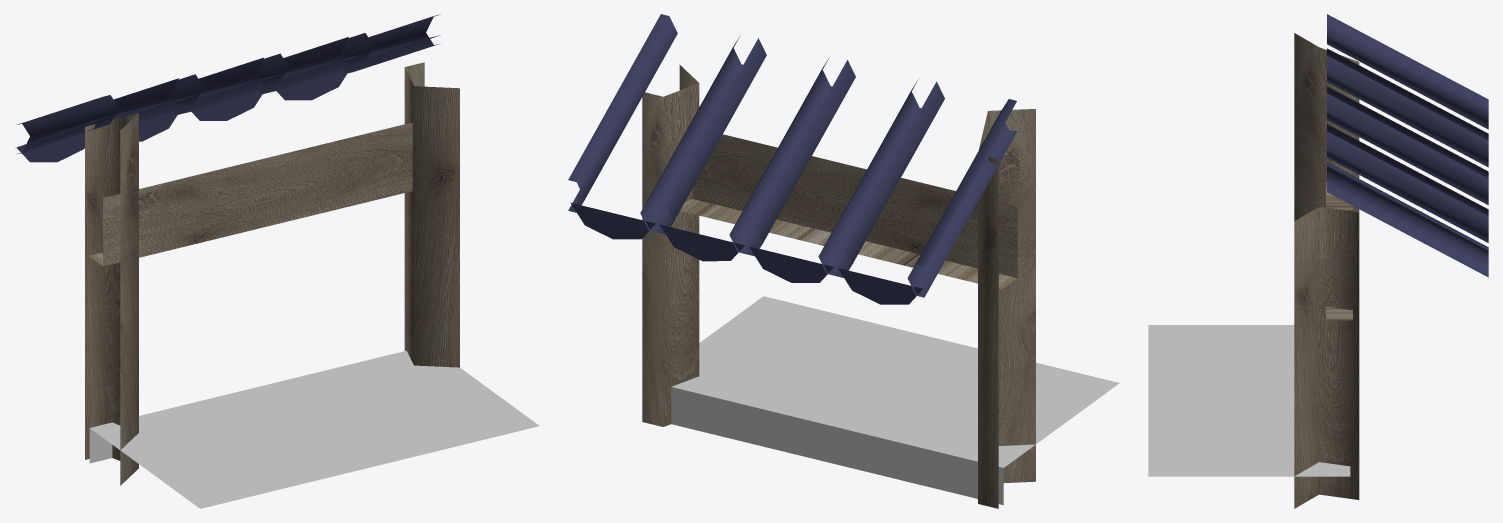
File: Building_CorridorBack_5.fbx
3 renders of one model, left to right at view 1: azimuth 30°, elevation 25°; view 2: azimuth 150°, elevation 25°; view 3: azimuth 270°, elevation 25°, orthographic. The views are drawn at different scales.
Visible parts, largest first — view 1: Cube.009, Plane.018, Cylinder.006, Cylinder.007, Circle.179, Circle.176, Circle.177, Circle.178, Circle.180, Plane.016, Plane.020, Plane.019 (+2 smaller); view 2: Cube.009, Cylinder.006, Plane.018, Cylinder.007, Circle.178, Circle.177, Circle.176, Circle.180, Circle.179, Plane.020, Plane.239, Plane.019 (+1 smaller); view 3: Cube.009, Cylinder.007, Cylinder.006, Circle.178, Circle.177, Circle.176, Circle.180, Circle.179, Plane.018.
Boxes of the visible parts, x1,y1,x2,y2 form: Cube.009: (89,350,539,508); Plane.018: (89,122,412,266); Cylinder.006: (85,113,138,485); Cylinder.007: (404,62,459,367); Circle.179: (16,95,118,154); Circle.176: (173,53,288,114); Circle.177: (258,33,373,94); Circle.178: (113,74,203,121); Circle.180: (343,14,440,73); Plane.016: (15,35,440,147); Plane.020: (276,69,346,100); Plane.019: (191,90,262,120); Cube.009: (671,296,1119,505); Cylinder.006: (978,109,1035,508); Plane.018: (680,134,1017,289); Cylinder.007: (642,65,699,426); Circle.178: (818,79,944,277); Circle.177: (640,37,766,234); Circle.176: (729,58,855,256); Circle.180: (568,14,677,212); Circle.179: (907,99,1016,297); Plane.020: (570,202,655,239); Plane.239: (838,268,922,304); Plane.019: (660,224,744,261); Cube.009: (1148,325,1350,476); Cylinder.007: (1294,207,1359,508); Cylinder.006: (1294,33,1359,220); Circle.178: (1327,48,1488,167); Circle.177: (1327,124,1488,242); Circle.176: (1327,86,1488,205); Circle.180: (1327,162,1488,277); Circle.179: (1327,14,1488,129); Plane.018: (1326,182,1352,320).
Bounding box in the file's own units: 200 × 212 × 190.
